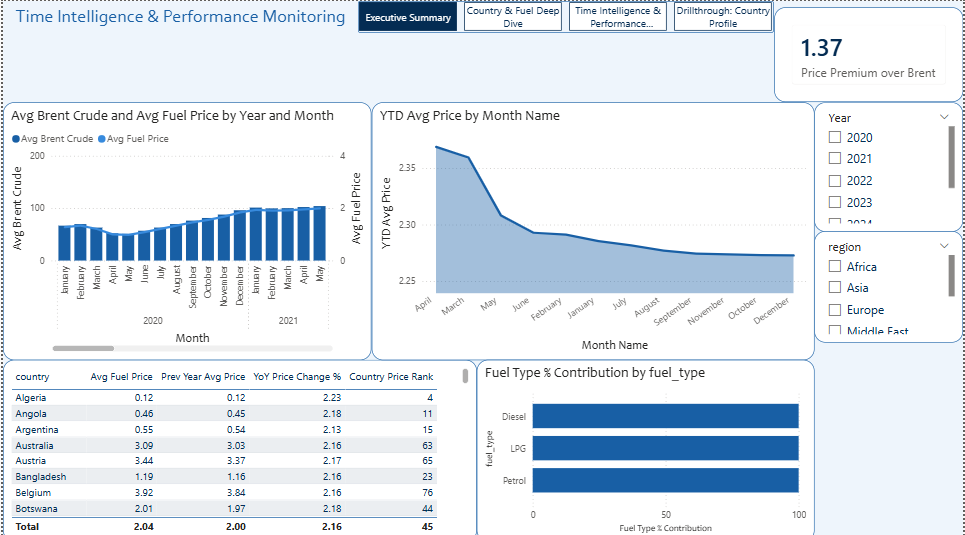

Layout of this report page (visuals, bound fields, positions):
{"tool":"powerbi","page":{"name":"Time Intelligence & Performance Monitoring","canvas":[1280,720],"ordinal":2},"visuals":[{"type":"textbox","box":[11.8,0,497.2,82.9],"z":0},{"type":"lineStackedColumnComboChart","fields":{"Y":["FactFuelPrices.Avg Brent Crude"],"Category":["DimDate.date.Variation.Date Hierarchy.Year","DimDate.date.Variation.Date Hierarchy.Month"],"Y2":["FactFuelPrices.Avg Fuel Price"]},"box":[0,134.4,491.1,343.3],"z":1000},{"type":"tableEx","fields":{"Values":["DimCountry.country","FactFuelPrices.Avg Fuel Price","FactFuelPrices.Prev Year Avg Price","FactFuelPrices.YoY Price Change %","FactFuelPrices.Country Price Rank"]},"box":[0,478.1,632.2,242.1],"z":2000},{"type":"areaChart","fields":{"Category":["DimDate.Month Name"],"Y":["FactFuelPrices.YTD Avg Price"]},"box":[491.6,134.5,590.6,343.6],"z":3000},{"type":"cardVisual","fields":{"Data":["FactFuelPrices.Price Premium over Brent"]},"box":[1028,8,252,126],"z":4000},{"type":"barChart","fields":{"Category":["FactFuelPrices.fuel_type"],"Y":["FactFuelPrices.Fuel Type % Contribution"]},"box":[632.2,478.1,450,242.1],"z":5000},{"type":"slicer","fields":{"Values":["DimDate.Year"]},"box":[1082.2,134.5,198.1,172.4],"z":6000},{"type":"slicer","fields":{"Values":["DimCountry.region"]},"box":[1082.2,306.9,198.1,149.2],"z":7000},{"type":"bookmarkNavigator","box":[474,0,554,42],"z":7001}]}

Visuals, with their boxes on the page's 1280x720 design canvas (x1, y1, x2, y2). These are canvas units, not pixel positions in the 965x535 screenshot, which may show the page scaled, cropped or inside an application window:
textbox: [12, 0, 509, 83]
lineStackedColumnComboChart - FactFuelPrices.Avg Brent Crude x DimDate.date.Variation.Date Hierarchy.Year: [0, 134, 491, 478]
tableEx - DimCountry.country x FactFuelPrices.Avg Fuel Price: [0, 478, 632, 720]
areaChart - DimDate.Month Name x FactFuelPrices.YTD Avg Price: [492, 134, 1082, 478]
cardVisual - FactFuelPrices.Price Premium over Brent: [1028, 8, 1280, 134]
barChart - FactFuelPrices.fuel_type x FactFuelPrices.Fuel Type % Contribution: [632, 478, 1082, 720]
slicer - DimDate.Year: [1082, 134, 1280, 307]
slicer - DimCountry.region: [1082, 307, 1280, 456]
bookmarkNavigator: [474, 0, 1028, 42]
